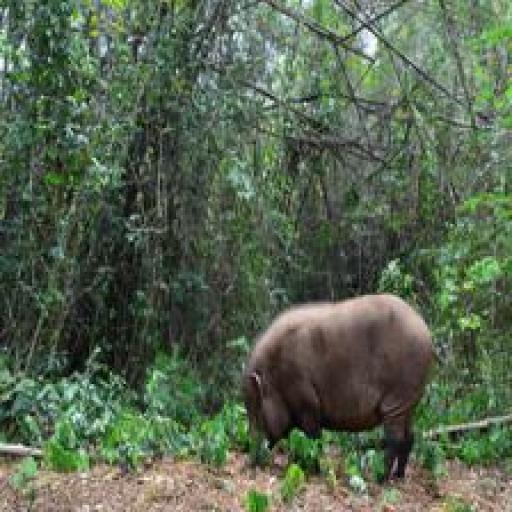Pig: (240, 293, 441, 465)
